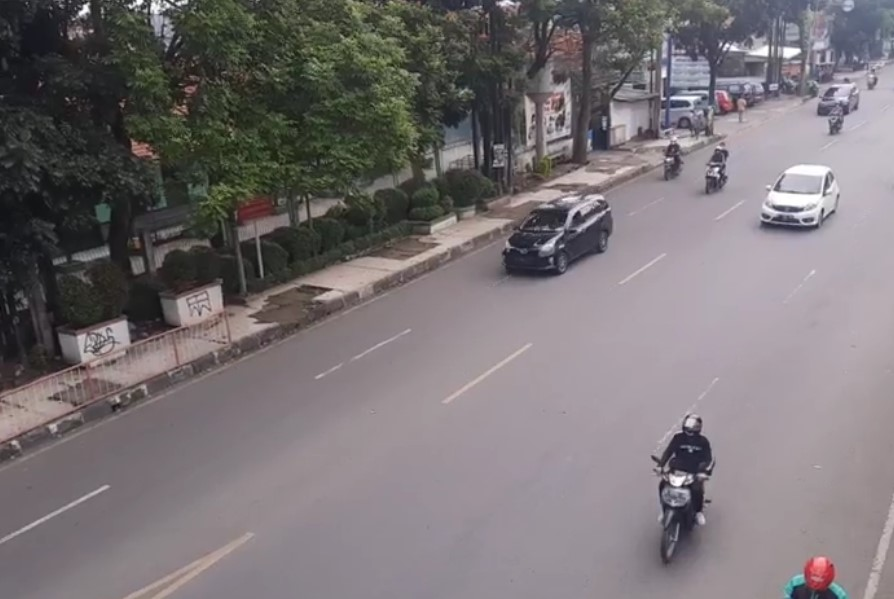motor: (649, 414, 719, 561), (696, 141, 737, 202), (652, 138, 690, 191)
